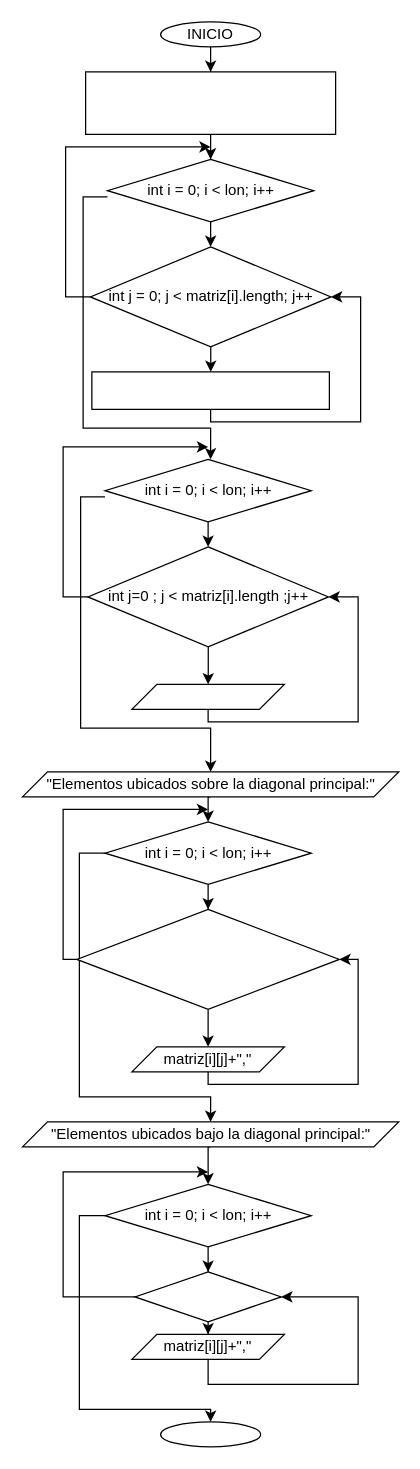
This 420x1469 diagram has some shape labels left out. Here are the shapes that lost their labels. From the top down, the centre of each, then its label:
the point at 210,102: int lon = 3; int[][] matriz = new int[lon][lon];
the point at 210,390: matriz[i][j] = ran.nextInt(19) - 9
the point at 207,696: " ["+ matriz[i][j]+"]"
the point at 207,958: int j = i + 1; j < matriz[i].length; j++
the point at 207,1296: int j = 0; j < i; j++
the point at 210,1434: FIN
